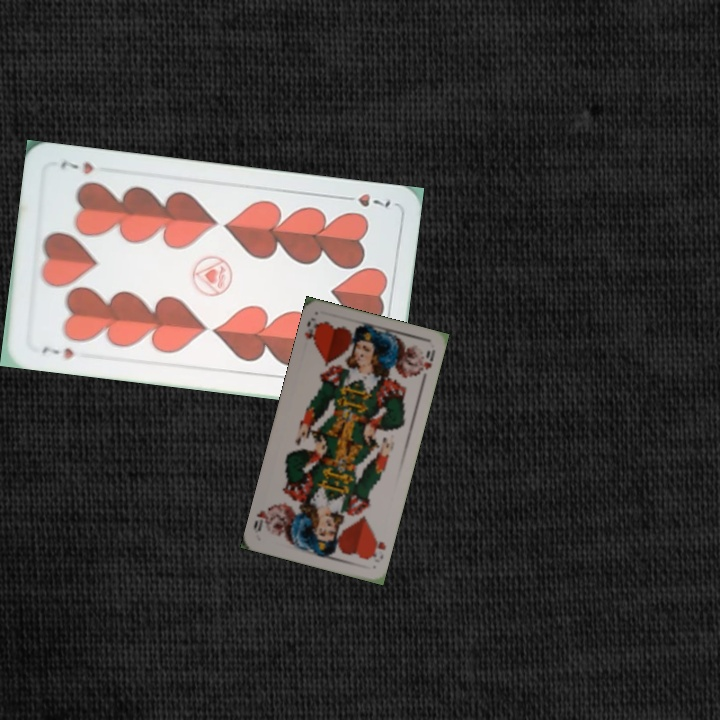H7: (337, 189, 393, 210), (37, 343, 77, 362)
HO: (300, 313, 323, 347), (365, 533, 388, 563)
